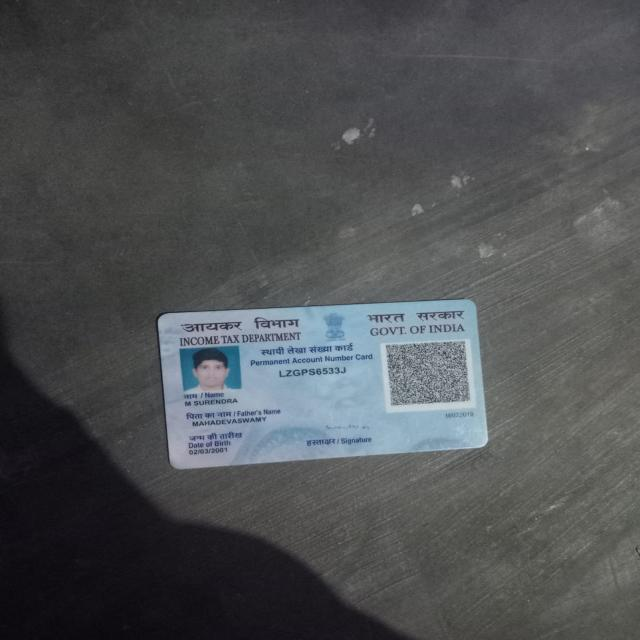pan_card: (158, 296, 490, 472)
